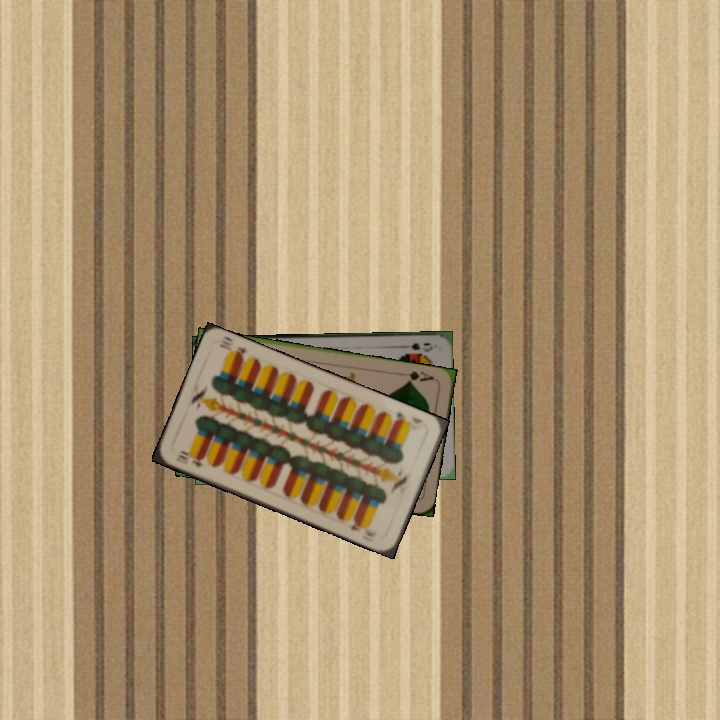E10: (173, 446, 205, 470), (390, 407, 425, 427)
GA: (403, 367, 436, 386)
SO: (407, 339, 435, 354)
